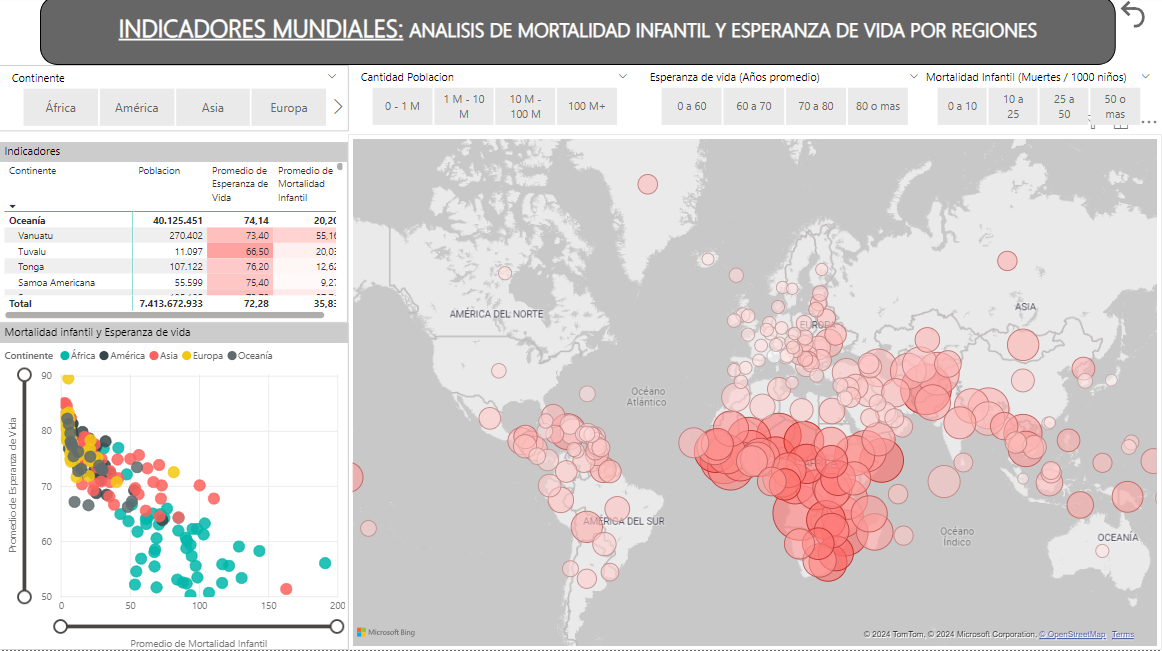

This screenshot's page, from the dashboard's own definition file:
{"tool":"powerbi","page":{"name":"Indicadores mundiales","canvas":[1280,720],"ordinal":1},"visuals":[{"type":"pivotTable","title":"Indicadores","fields":{"Rows":["Paises.Continente","Paises.Pais"],"Values":["Sum(Population.Poblacion)","Avg(Esperanza de vida.Esperanza de Vida)","Avg(Mortalidad Infantil.Mortalidad Infantil)"]},"box":[0,160.7,384.1,199.2],"z":0},{"type":"slicer","fields":{"Values":["Paises.Continente"]},"box":[0,75.9,385,72.5],"z":1000},{"type":"slicer","fields":{"Values":["Population.Cantidad Poblacion"]},"box":[385,75.9,318.8,72.5],"z":2000},{"type":"map","fields":{"Category":["Paises.Pais"],"Size":["Avg(Mortalidad Infantil.Mortalidad Infantil)"]},"box":[384.6,151.7,895.4,568.4],"z":3000},{"type":"slicer","fields":{"Values":["Esperanza de vida.Esperanza de vida (Años promedio)"]},"box":[703.8,75.9,321.2,72.5],"z":4000},{"type":"slicer","fields":{"Values":["Mortalidad Infantil.Mortalidad Infantil (Muertes / 1000 niños)"]},"box":[1007.5,75.9,272.5,72.5],"z":5000},{"type":"scatterChart","title":"Mortalidad infantil y Esperanza de vida","fields":{"Category":["Paises.Pais"],"X":["Avg(Mortalidad Infantil.Mortalidad Infantil)"],"Y":["Avg(Esperanza de vida.Esperanza de Vida)"],"Series":["Paises.Continente"]},"box":[0,360,385,360],"z":6000},{"type":"actionButton","box":[1228.7,0,51.3,39.5],"z":7000},{"type":"shape","box":[44.9,0,1183.8,75.9],"z":8000},{"type":"textbox","box":[45.1,11,1184.2,64.9],"z":9001}]}

Visuals, with their boxes in screenshot pixels (x1, y1, x2, y2), scaled from the page's 1280x720 canvas onto the 1162x651 screenshot:
"Indicadores" pivotTable: 0:145:349:325
slicer - Paises.Continente: 0:69:350:134
slicer - Population.Cantidad Poblacion: 350:69:639:134
map - Paises.Pais x Avg(Mortalidad Infantil.Mortalidad Infantil): 349:137:1161:650
slicer - Esperanza de vida.Esperanza de vida (Años promedio): 639:69:931:134
slicer - Mortalidad Infantil.Mortalidad Infantil (Muertes / 1000 niños): 915:69:1161:134
"Mortalidad infantil y Esperanza de vida" scatterChart: 0:326:350:650
actionButton: 1115:0:1161:36
shape: 41:0:1115:69
textbox: 41:10:1116:69
